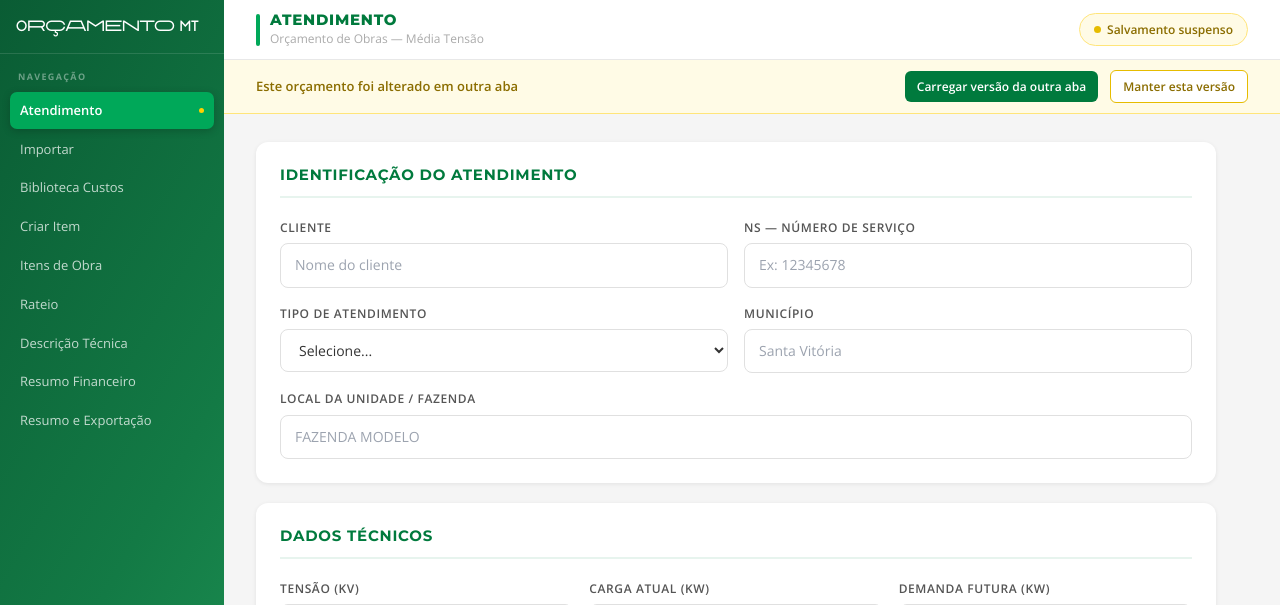
Test case: B2 — duas abas abertas › tela: faixa de aviso, botões e indicador do cabeçalho
Expected: the text "Este orçamento foi alterado em outra aba" is shown, [256, 77, 518, 95]
Expected: the text "Salvamento suspenso" is shown, [1079, 13, 1248, 46]
Click the button "Manter esta versão". click: (1179, 87)
box: [1110, 70, 1248, 103]
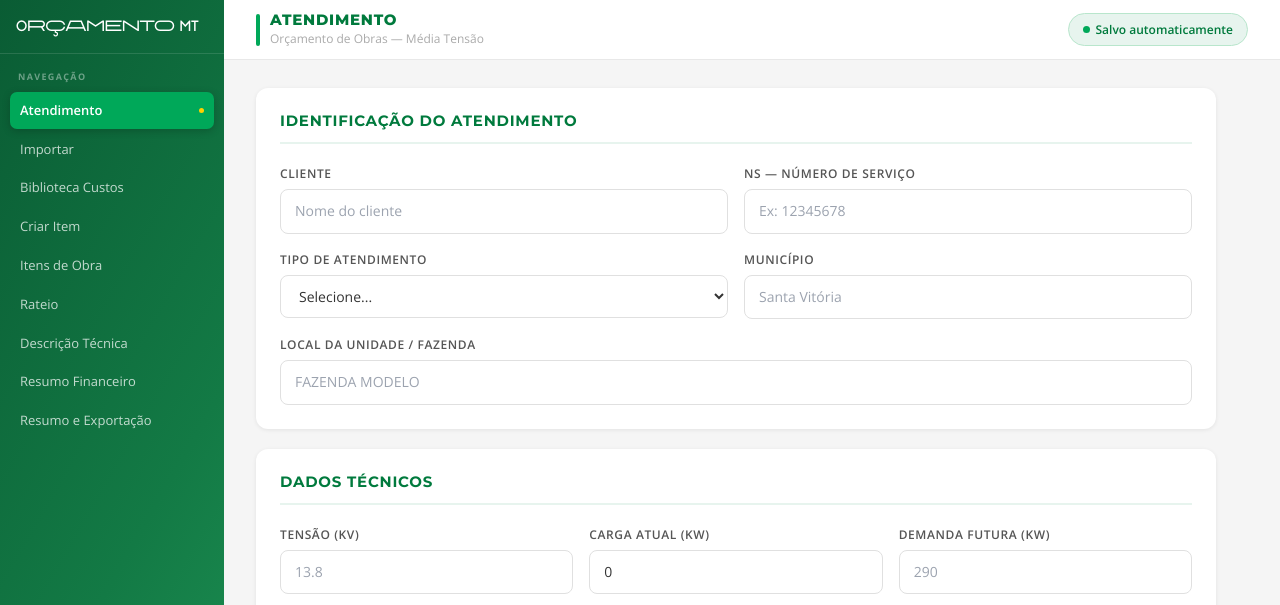
Expected: the text "Este orçamento foi alterado em outra aba" is gone
Expected: the text "Salvo automaticamente" is shown, [1068, 13, 1248, 46]
